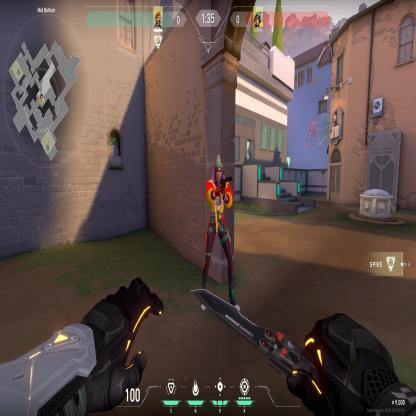enemy: (202, 152, 235, 292)
